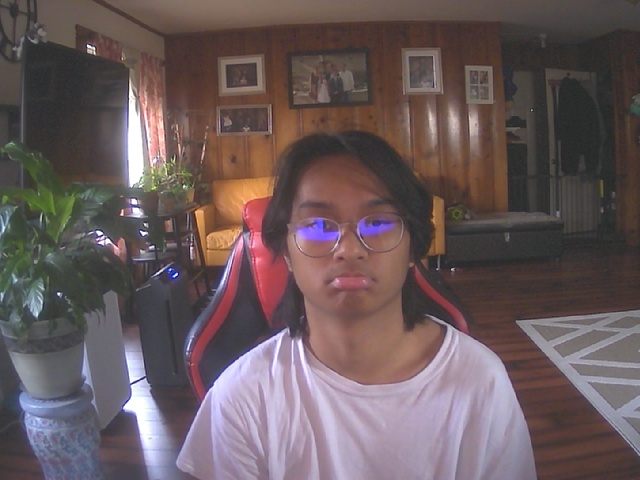sad: (278, 141, 421, 321)
